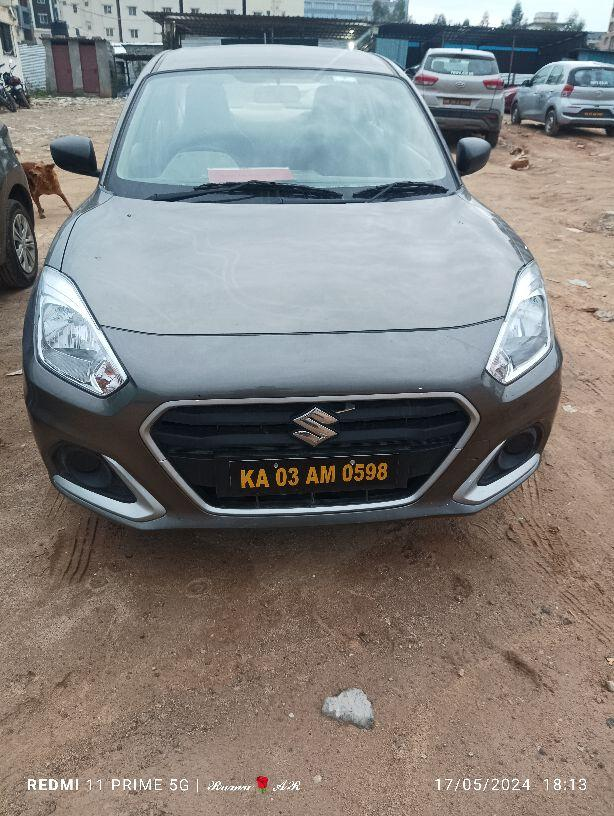license_plate: (213, 451, 406, 499)
